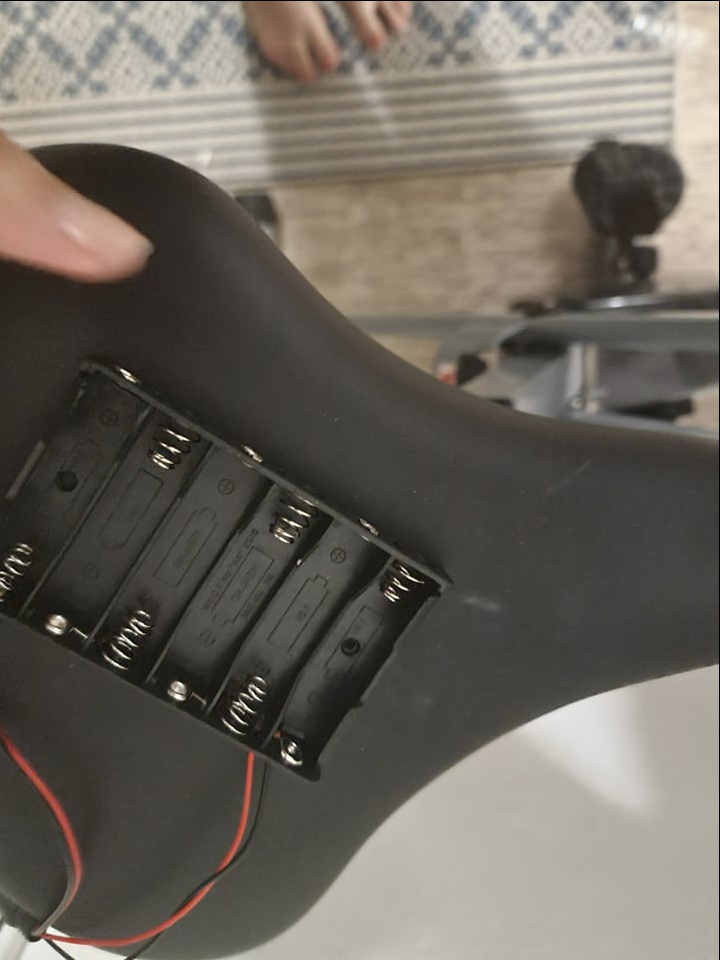BATTERY BOX: (1, 332, 449, 788)
